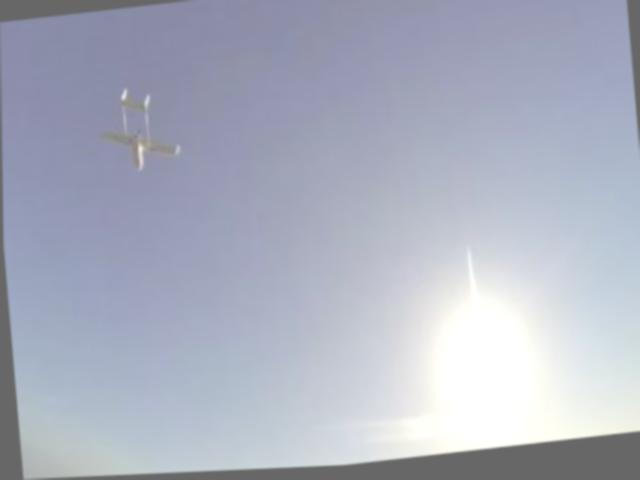uav: (92, 79, 184, 180)
